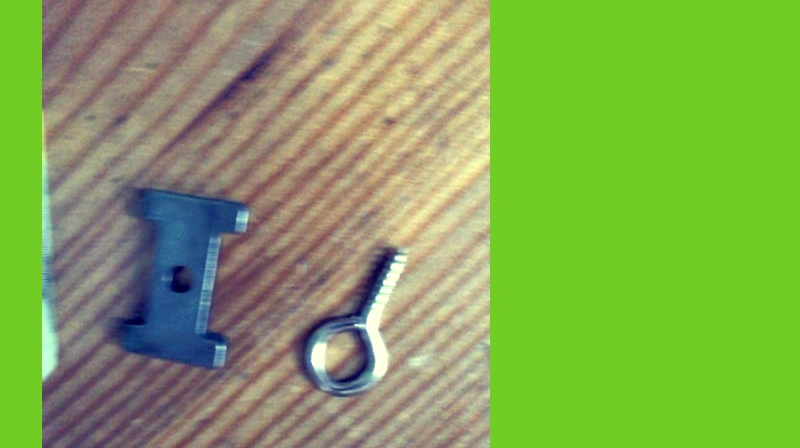O001: (300, 233, 414, 404)
O002: (114, 181, 251, 372)
